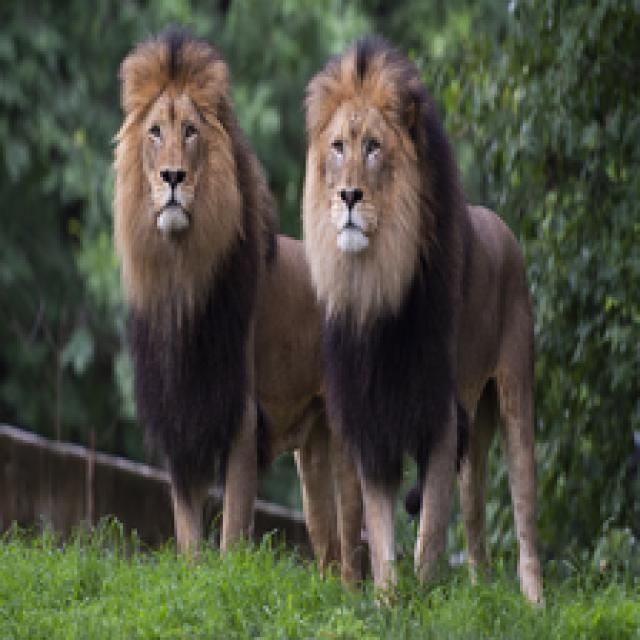lion: (273, 4, 611, 617), (74, 25, 371, 597)
